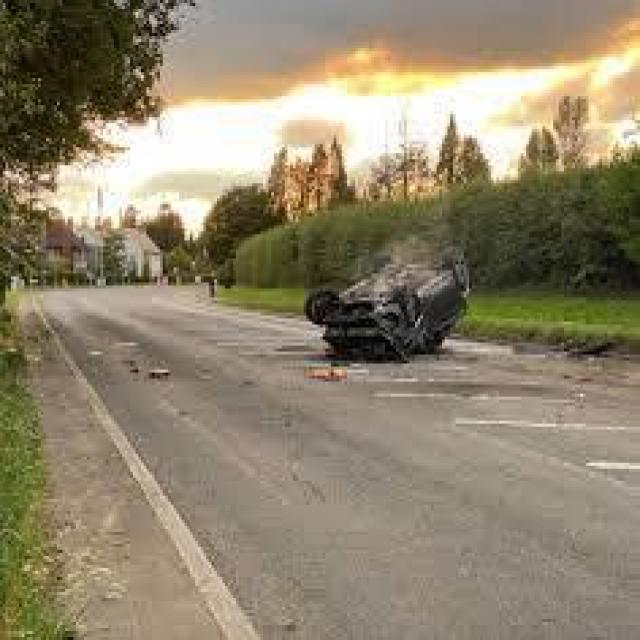severe: (309, 245, 477, 365)
